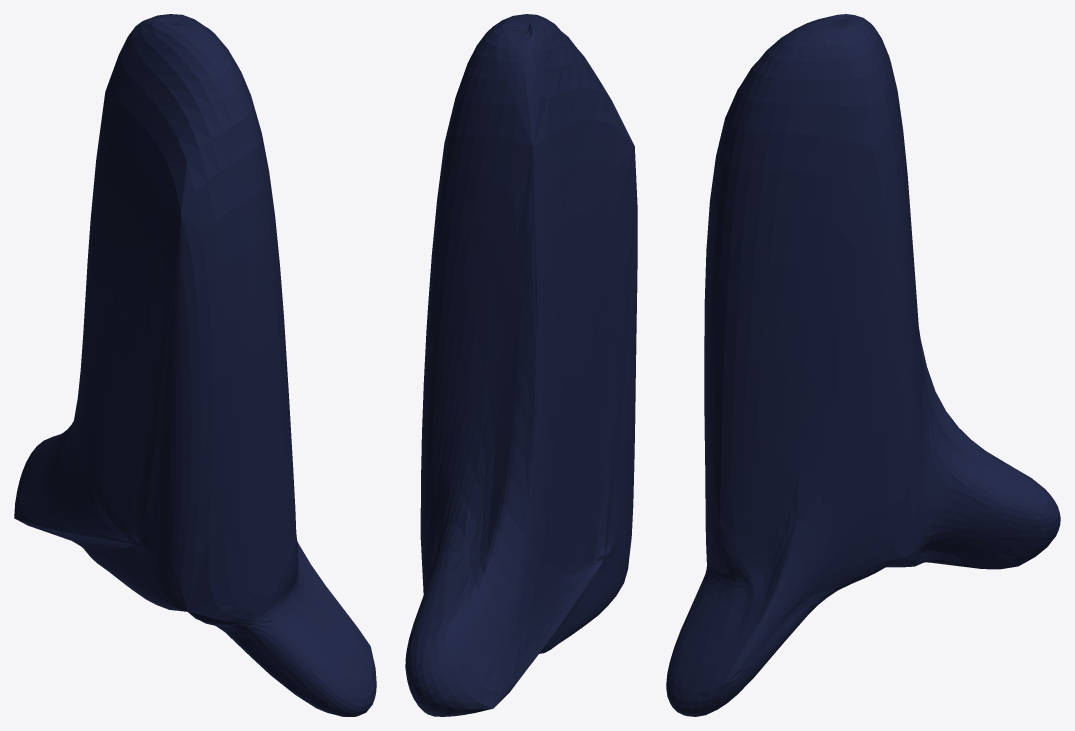
The picture shows the model from 3 angles, left to right: view 1: azimuth 30°, elevation 25°; view 2: azimuth 150°, elevation 25°; view 3: azimuth 270°, elevation 25°; orthographic projection. The views are drawn at different scales.
Parts seen in each view (by area): view 1: 120_Cube.497; view 2: 120_Cube.497; view 3: 120_Cube.497.
Part boxes in pixels (x1,y1,x2,y2): 120_Cube.497: (14, 14, 376, 716); 120_Cube.497: (405, 14, 637, 716); 120_Cube.497: (666, 14, 1060, 716).
Bounding box in the file's own units: 4.65 × 14.25 × 7.93.
